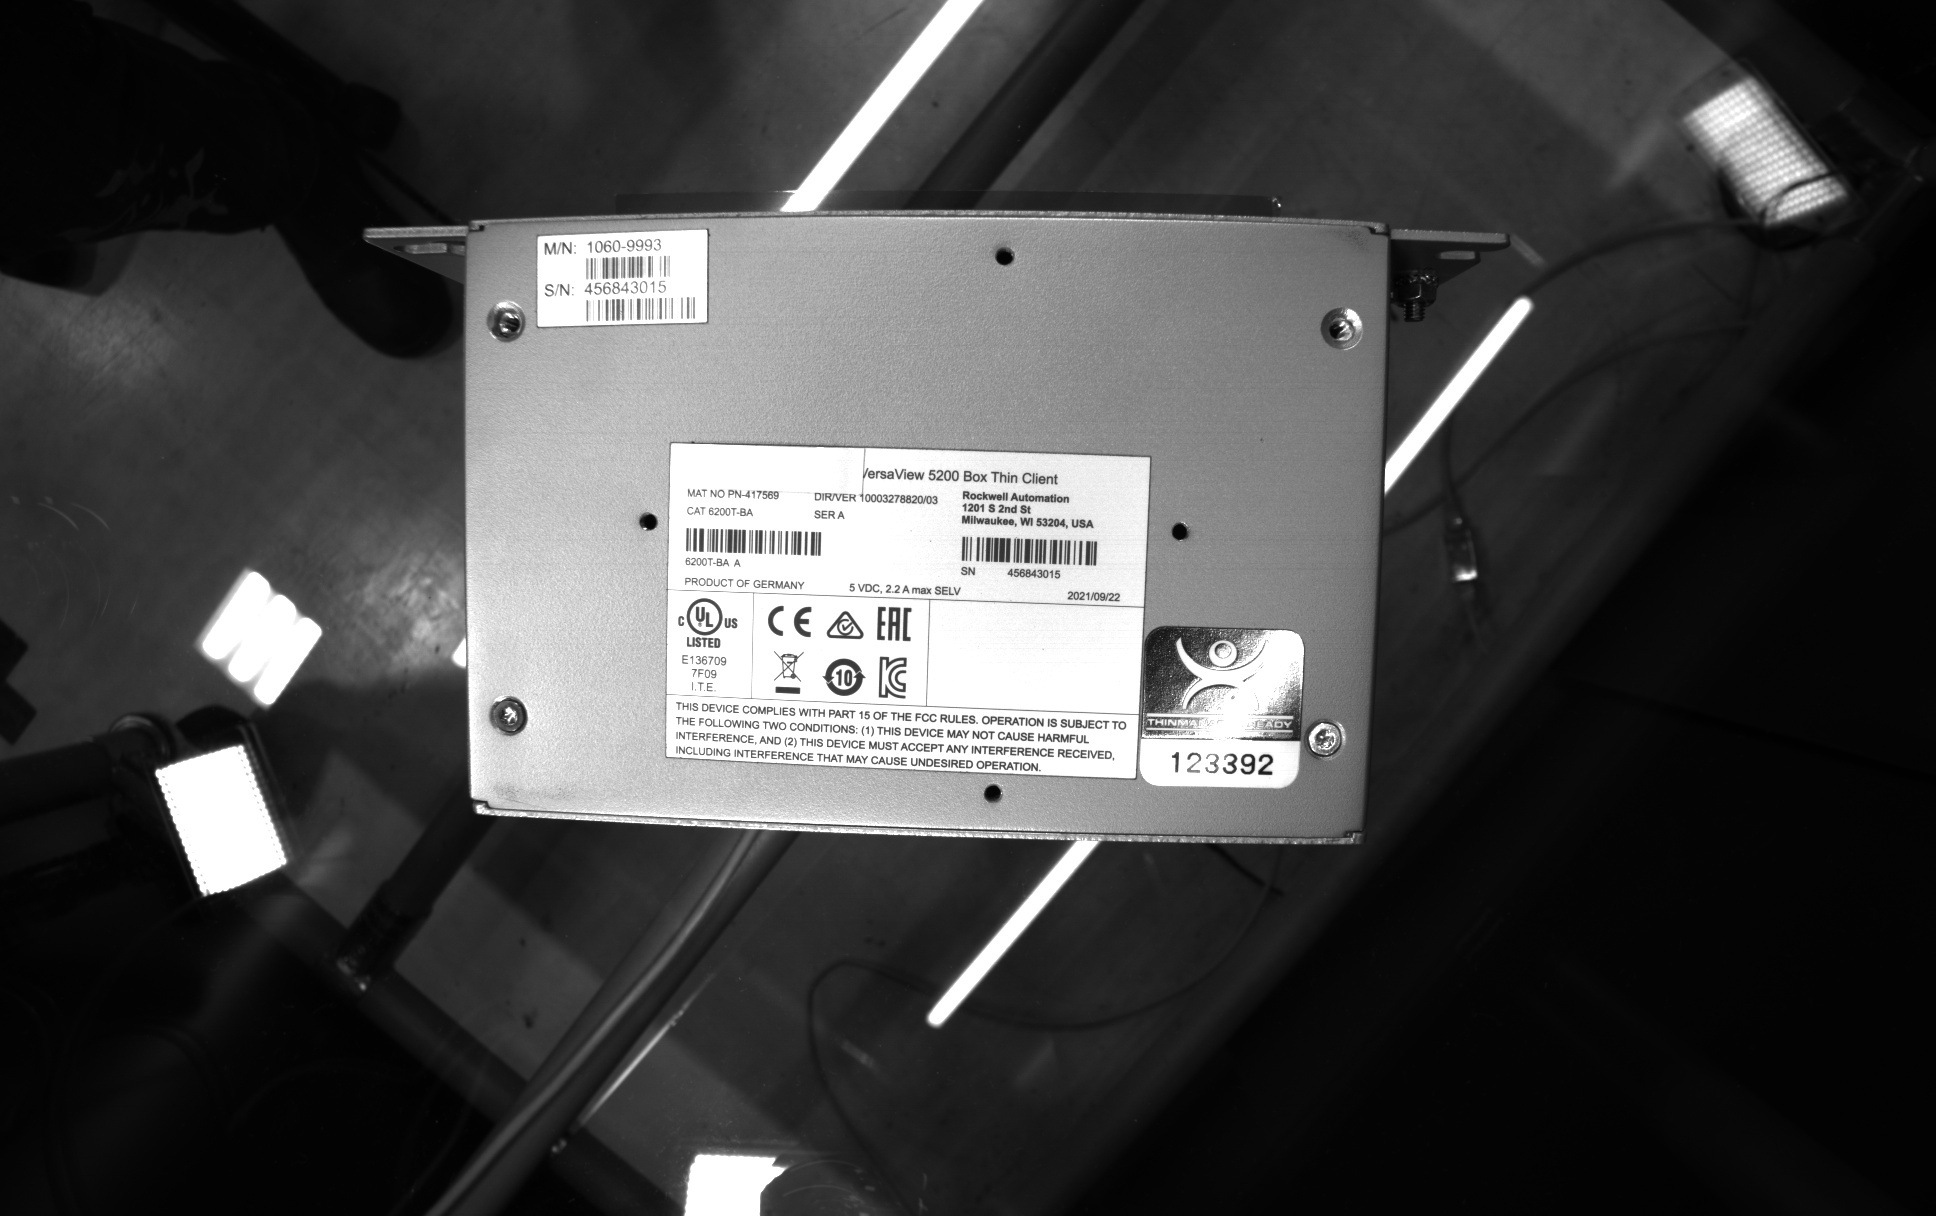Barcode: (678, 520, 828, 563), (954, 532, 1102, 573), (574, 290, 703, 325), (572, 251, 684, 284)
CamTop: (443, 198, 1411, 863)
Label_Seriennummer: (653, 429, 1161, 787)
Loch: (1314, 303, 1371, 356), (480, 294, 531, 346)
Loch_Montage: (625, 495, 665, 539), (1159, 509, 1198, 552), (968, 778, 1011, 815), (983, 230, 1023, 270)
Schraube: (482, 688, 532, 744), (1303, 712, 1353, 766)
